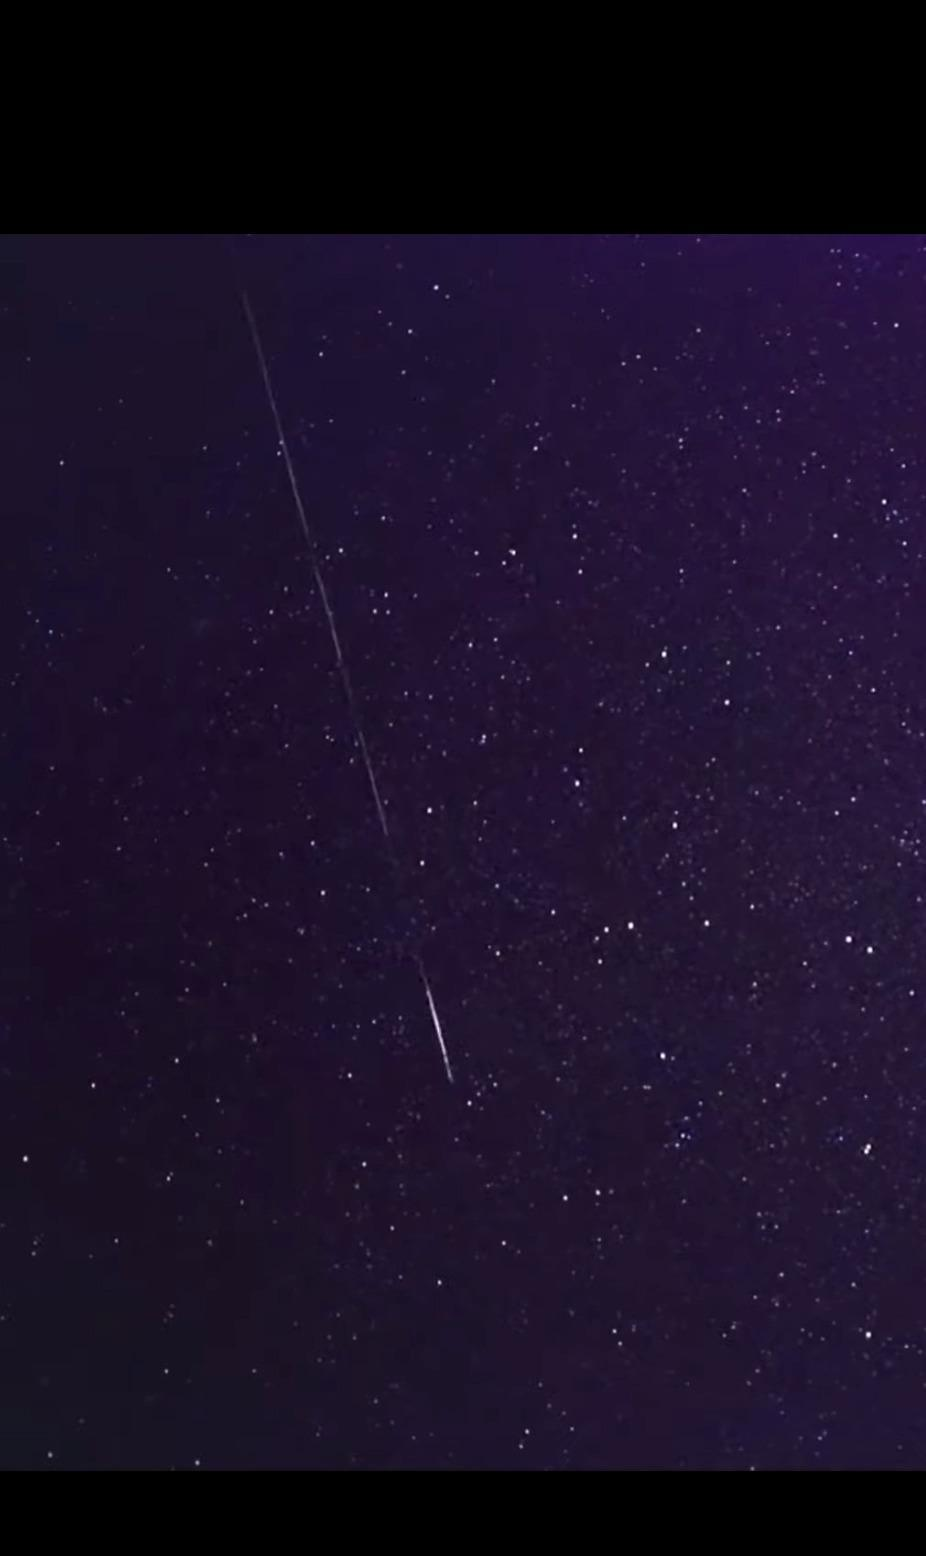meteorite: (334, 691, 462, 1081)
